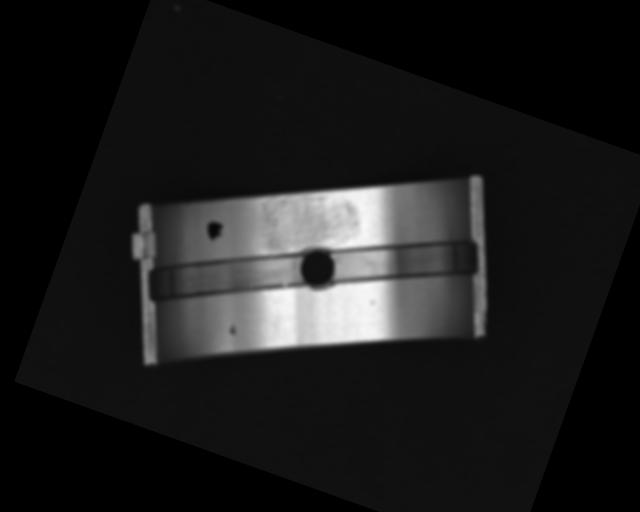blot: (202, 219, 226, 243)
bruise: (226, 321, 240, 338), (369, 299, 375, 305)
gap: (138, 207, 312, 346), (324, 196, 490, 327)
hole: (287, 239, 346, 298)
nick: (252, 289, 285, 327)
scratch: (245, 171, 370, 275)
